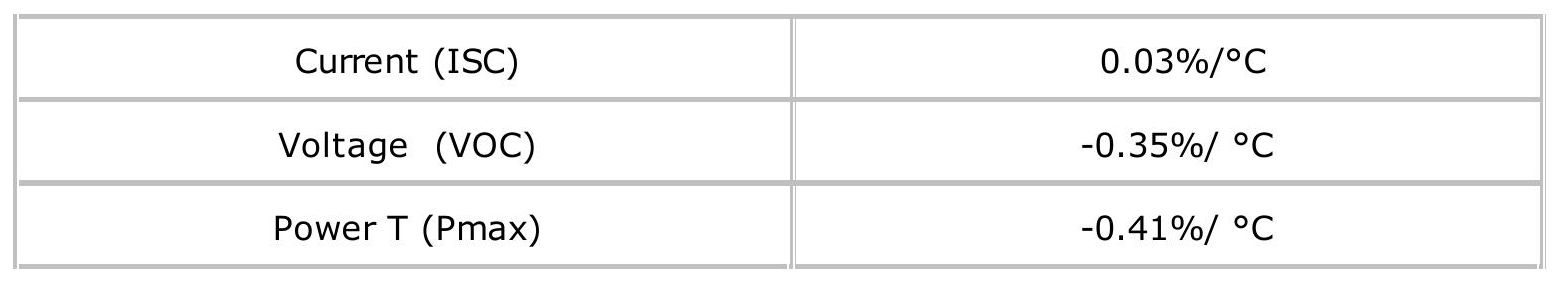table: (4, 3, 1559, 279)
table column: (49, 10, 781, 275), (813, 9, 1532, 275)
table row: (23, 22, 1535, 94), (22, 191, 1538, 261), (24, 108, 1535, 175)
